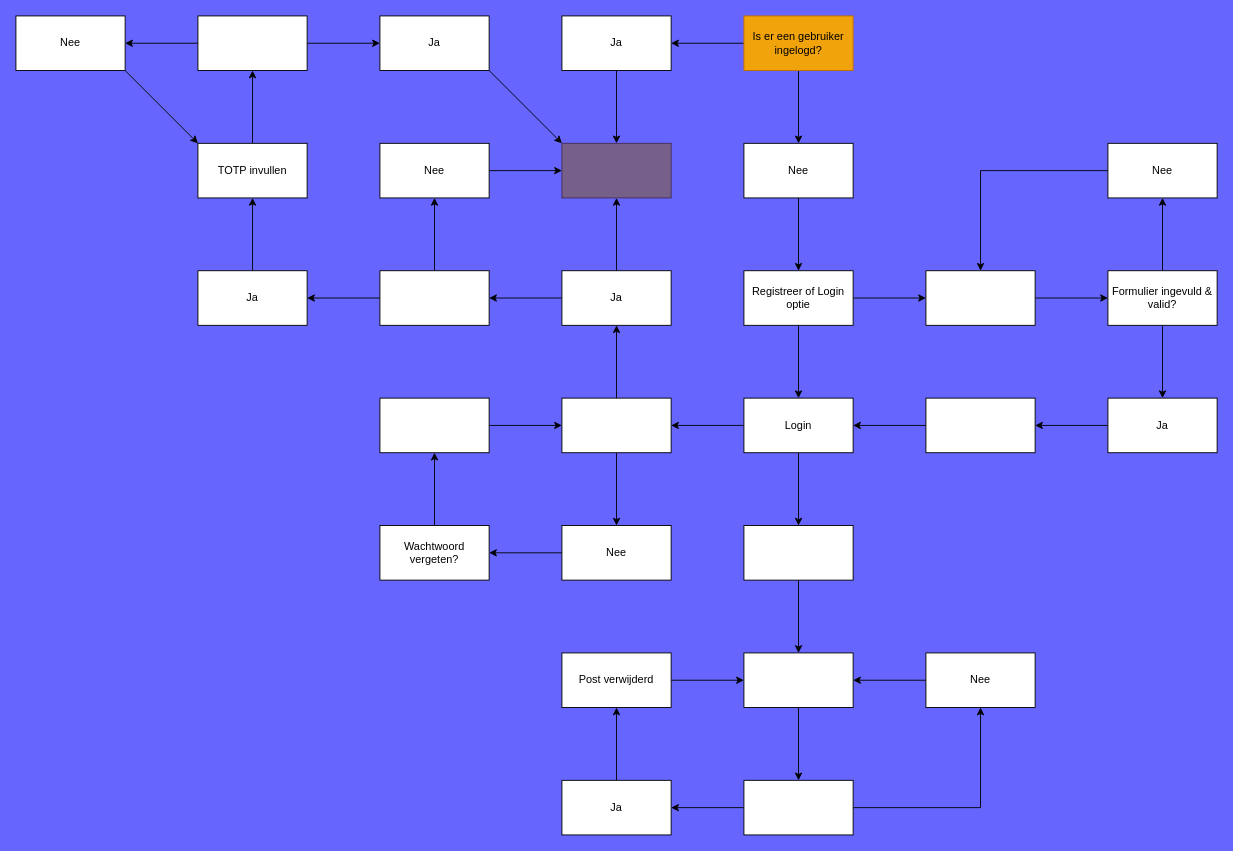
Some shapes in this 1233 by 851 pixel diagram are drawn without their labels. The shapes that lost their labels are listed below. From the top down, each one's centre as x and y in pixels, then its label:
At [252,43]: "TOTP code correct ingevuld?".
At [616,170]: "User landt op de 'homepagina' /".
At [434,297]: "Heeft de gebruiker 2FA ingesteld?".
At [980,297]: "Registreer".
At [434,425]: "E-mail verstuurd om een nieuw wachtwoord in te stellen".
At [616,425]: "Inloggegevens correct ingevuld?".
At [980,425]: "E-mail verificatie verstuurd".
At [798,552]: "ADMIN paneel".
At [798,680]: "Overzicht van alle posts".
At [798,807]: "Verwijder post?".
